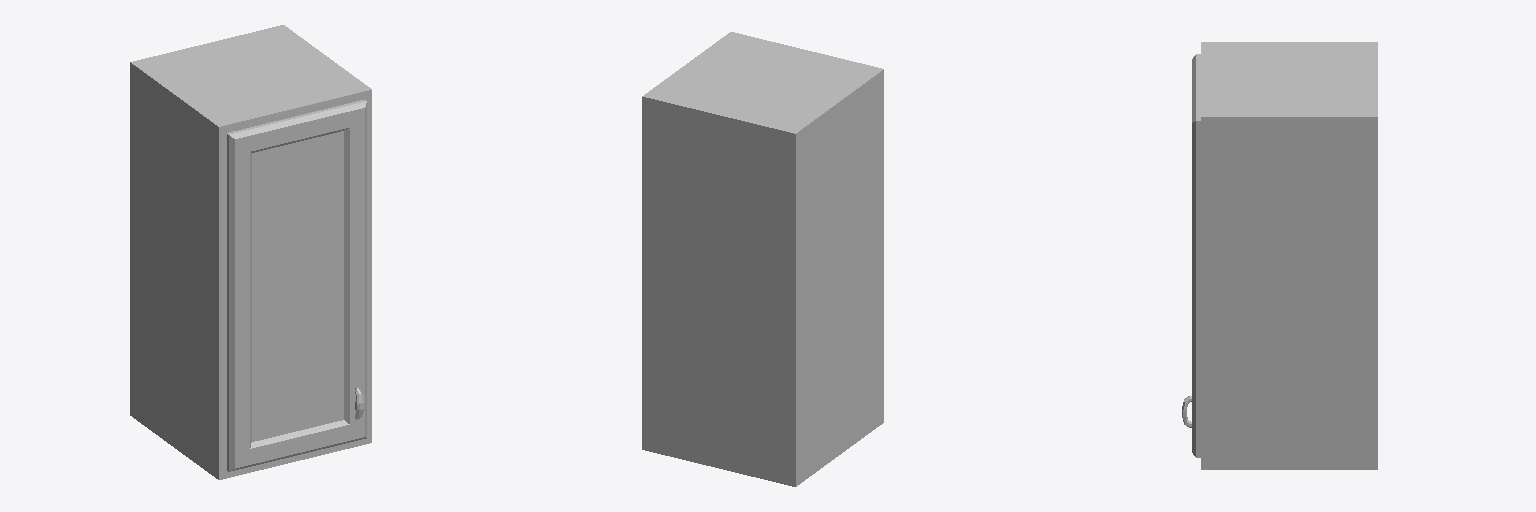
Rendered from Structure_Kitchen_Cabinet_Wall_Half.obj.
The picture shows the model from 3 angles: view 1: azimuth 30°, elevation 25°; view 2: azimuth 150°, elevation 25°; view 3: azimuth 270°, elevation 25°; orthographic projection.
Visible parts, largest first — view 1: object2, object1; view 2: object2; view 3: object2, object1.
Boxes of the visible parts, box(x1,y1,x2,y2) form: object2: box(130, 25, 371, 479); object1: box(227, 100, 366, 471); object2: box(642, 32, 883, 486); object2: box(1201, 42, 1377, 469); object1: box(1192, 54, 1200, 457).
Bounding box in the file's own units: 0.5 × 1.1 × 0.5531.